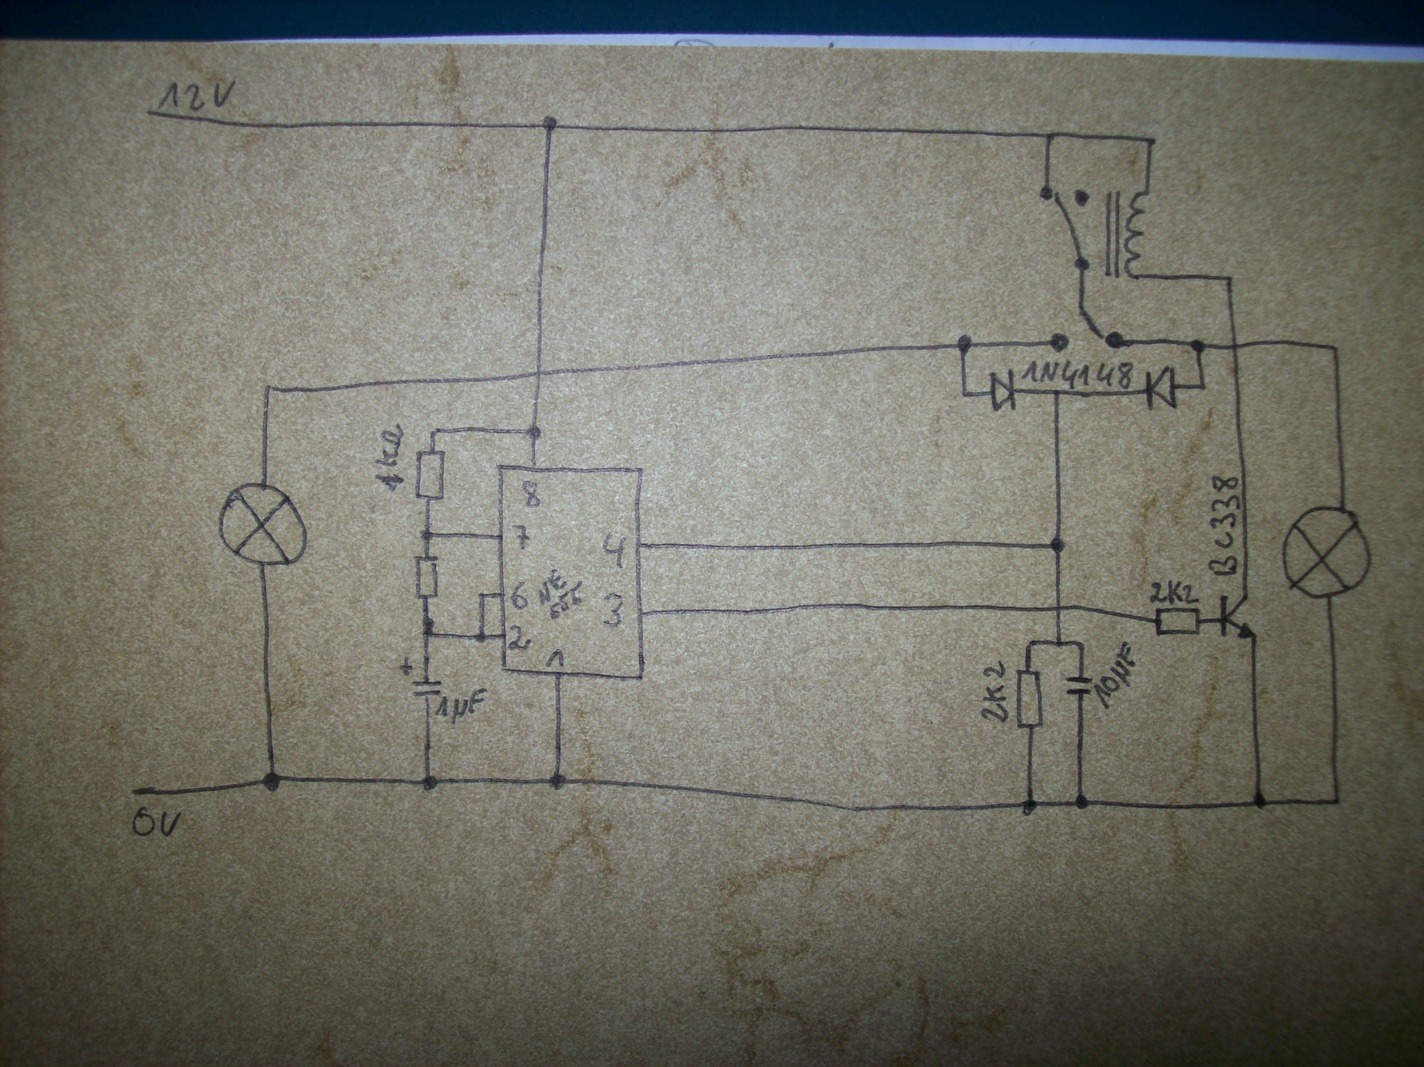capacitor.polarized: (398, 655, 443, 698)
capacitor.unpolarized: (1065, 674, 1093, 698)
crossover: (529, 364, 549, 382), (1227, 338, 1242, 355), (1052, 602, 1065, 615)
diode: (1145, 364, 1179, 412), (989, 367, 1018, 412)
integrated_cricuit.ne555: (495, 461, 650, 681)
junction: (261, 771, 282, 794), (548, 771, 567, 792), (956, 333, 972, 356), (1251, 790, 1268, 811), (420, 616, 435, 640), (541, 114, 558, 134), (1049, 535, 1065, 555), (1021, 797, 1037, 817), (421, 774, 439, 792), (525, 424, 542, 440), (1074, 794, 1090, 811), (1042, 128, 1059, 143), (261, 381, 277, 397), (1022, 637, 1037, 652), (1189, 338, 1206, 353), (1194, 379, 1209, 393), (1143, 133, 1157, 148), (419, 528, 434, 542), (473, 630, 487, 644), (1330, 794, 1343, 809), (959, 388, 972, 403), (1049, 387, 1064, 399), (1328, 342, 1341, 355), (428, 426, 441, 438), (475, 591, 488, 603), (1052, 637, 1065, 649), (1074, 639, 1088, 650), (1223, 272, 1236, 284)
lamp: (1281, 504, 1372, 600), (218, 482, 309, 567)
relay: (1037, 184, 1151, 280)
resistor: (1014, 667, 1046, 730), (415, 448, 447, 502), (1153, 606, 1202, 637), (412, 553, 441, 601)
switch: (1049, 304, 1124, 354)
terminal: (128, 783, 146, 800), (143, 106, 156, 121)
text: (1206, 474, 1241, 576), (1020, 359, 1134, 390), (1093, 640, 1138, 711), (158, 80, 238, 112), (537, 568, 584, 621), (373, 421, 406, 492), (434, 687, 488, 726), (979, 658, 1009, 725), (131, 805, 182, 838), (1148, 579, 1201, 605), (601, 531, 626, 569), (602, 591, 626, 629), (520, 479, 543, 510), (508, 624, 531, 652), (510, 579, 530, 611), (510, 523, 531, 553), (545, 647, 565, 670)
transistor: (1218, 592, 1259, 641)
